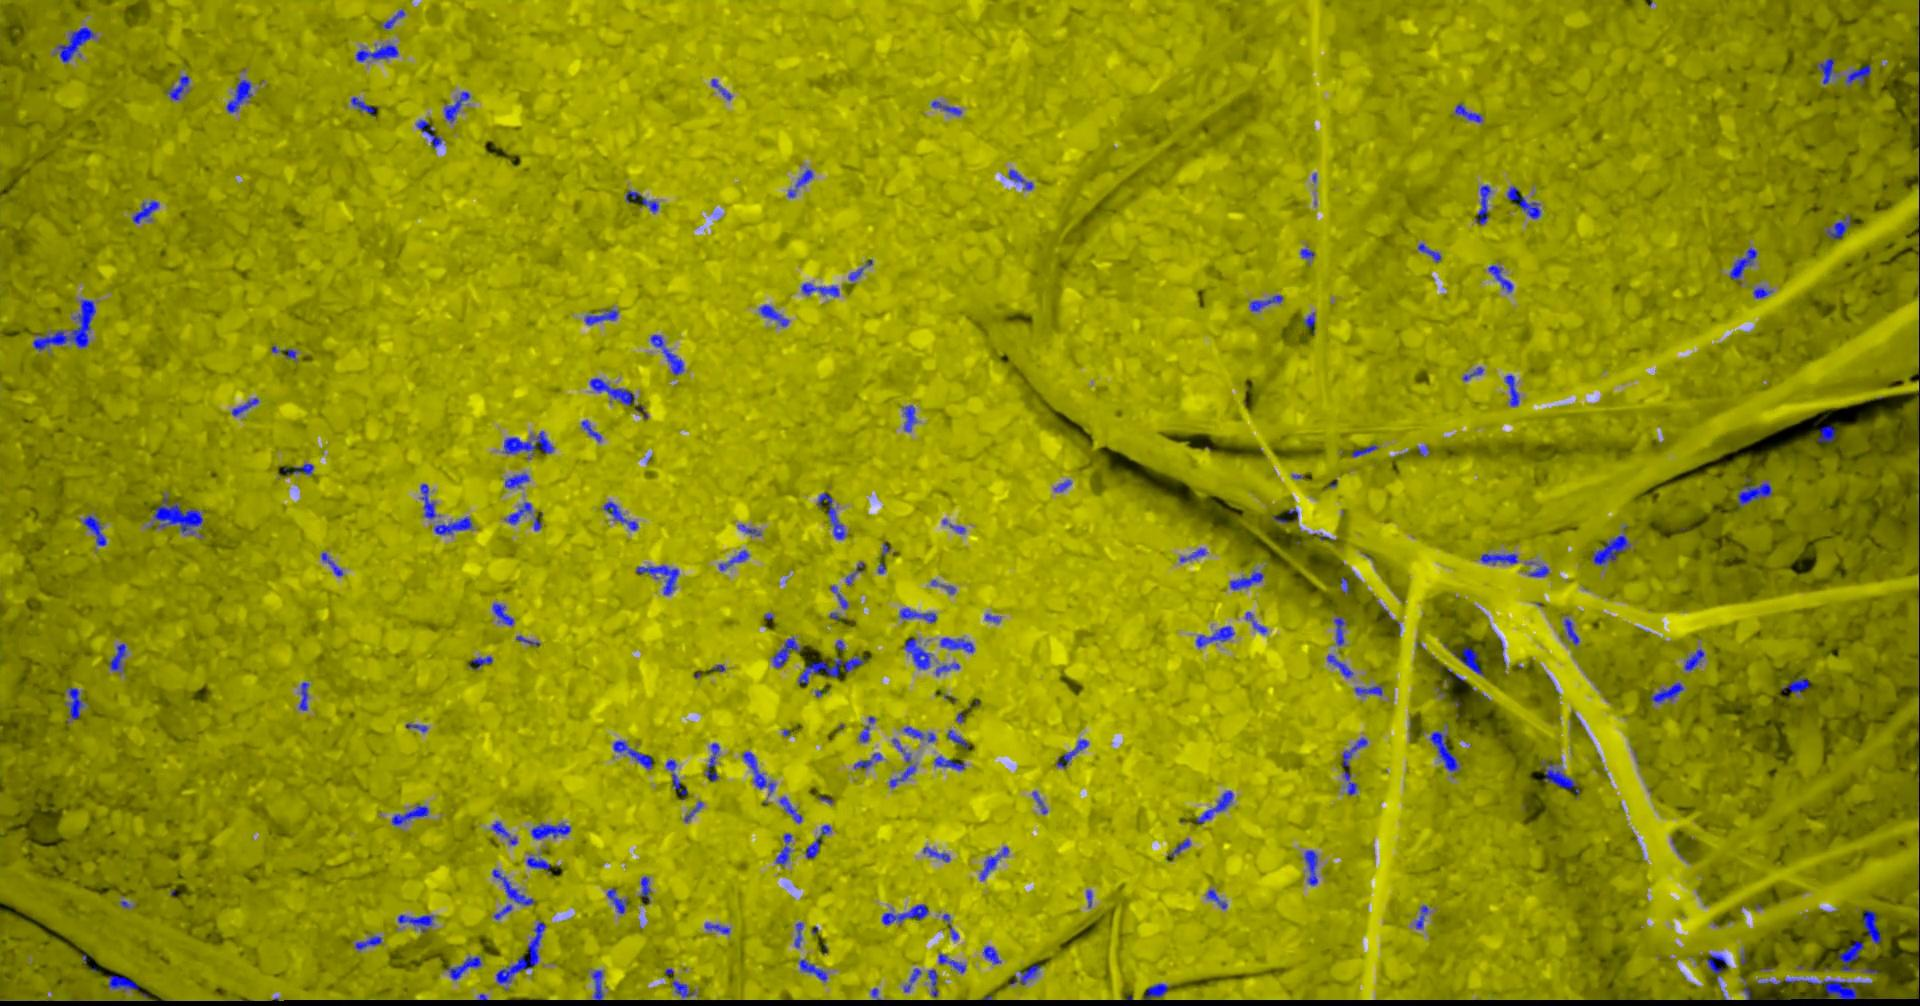ant: (495, 921, 545, 989), (32, 298, 95, 351), (491, 868, 533, 920), (797, 655, 869, 683), (152, 495, 202, 533), (1783, 979, 1872, 998), (742, 751, 775, 793), (650, 334, 683, 375), (889, 738, 916, 788), (817, 492, 844, 539), (57, 25, 93, 62), (635, 565, 678, 594), (1540, 760, 1578, 793), (1195, 790, 1233, 823), (589, 377, 634, 405), (1429, 730, 1459, 771), (1591, 535, 1630, 565), (1506, 185, 1540, 218), (503, 431, 552, 453), (612, 741, 651, 768), (1737, 478, 1771, 507), (603, 500, 637, 530), (979, 846, 1008, 879), (881, 903, 928, 923), (1057, 739, 1088, 768), (1730, 246, 1756, 279), (903, 636, 930, 669), (804, 824, 830, 857), (772, 636, 800, 667), (391, 803, 428, 826), (226, 79, 251, 112), (446, 956, 481, 979), (1195, 626, 1234, 647), (1341, 737, 1368, 766), (443, 91, 469, 122), (1837, 940, 1863, 970), (665, 760, 687, 795), (356, 43, 397, 61), (1457, 647, 1483, 674), (415, 119, 441, 149), (530, 822, 570, 840), (1487, 264, 1512, 292), (787, 168, 811, 197), (758, 304, 789, 326), (83, 514, 105, 545), (433, 516, 471, 533), (625, 191, 658, 211), (1650, 682, 1683, 702), (1229, 570, 1263, 589), (397, 915, 433, 932), (797, 959, 827, 981), (1011, 963, 1040, 984), (717, 550, 748, 570), (132, 199, 157, 224), (1825, 215, 1850, 239), (504, 502, 531, 525), (1862, 909, 1879, 944), (65, 687, 84, 719), (1705, 953, 1727, 981), (166, 75, 189, 100), (1474, 185, 1490, 224), (1327, 654, 1352, 677), (778, 796, 801, 822), (491, 821, 517, 843), (606, 887, 627, 913), (705, 742, 719, 781), (1845, 64, 1870, 85), (1250, 295, 1283, 311), (420, 483, 436, 518), (938, 636, 974, 652), (801, 282, 839, 296), (775, 833, 791, 865), (584, 309, 618, 324), (899, 608, 936, 622), (1303, 848, 1317, 885), (1454, 103, 1481, 122), (938, 953, 965, 972), (1503, 373, 1519, 406), (320, 553, 342, 575), (1008, 169, 1032, 189), (1815, 57, 1834, 83), (107, 974, 138, 989), (231, 398, 258, 415), (491, 603, 513, 625), (1244, 611, 1266, 633), (931, 100, 961, 116), (108, 643, 124, 671), (853, 752, 881, 768), (350, 97, 375, 116), (844, 561, 863, 586), (903, 727, 935, 741), (711, 77, 731, 99), (1479, 553, 1517, 564), (1782, 677, 1810, 692), (933, 756, 964, 770), (858, 716, 875, 742), (947, 729, 968, 749), (382, 9, 404, 28), (1684, 648, 1703, 669), (1417, 243, 1440, 260), (829, 586, 847, 608), (922, 846, 949, 861), (903, 967, 919, 991), (582, 420, 601, 441), (504, 473, 530, 488), (1563, 619, 1578, 644), (590, 969, 603, 1000), (670, 981, 693, 997), (1178, 547, 1205, 561), (354, 935, 381, 949), (1342, 771, 1357, 795), (1206, 889, 1225, 908), (684, 801, 702, 822), (1031, 791, 1048, 813), (930, 579, 955, 593), (1145, 983, 1168, 998), (903, 404, 916, 431), (1170, 840, 1189, 857), (1415, 904, 1429, 929), (1333, 616, 1345, 645), (469, 655, 491, 669), (982, 945, 999, 963), (1816, 426, 1835, 442), (1350, 445, 1377, 456), (298, 681, 309, 710), (526, 856, 549, 869), (703, 922, 729, 934), (1354, 685, 1382, 695), (935, 663, 959, 674), (639, 876, 650, 901), (1462, 367, 1483, 380), (927, 969, 937, 996), (1302, 312, 1314, 333), (737, 525, 759, 535), (794, 922, 803, 948), (1752, 287, 1771, 298), (1054, 479, 1070, 492), (1528, 565, 1548, 575), (293, 464, 312, 474), (1340, 575, 1349, 593), (1300, 248, 1314, 258), (1917, 83, 1919, 136)
